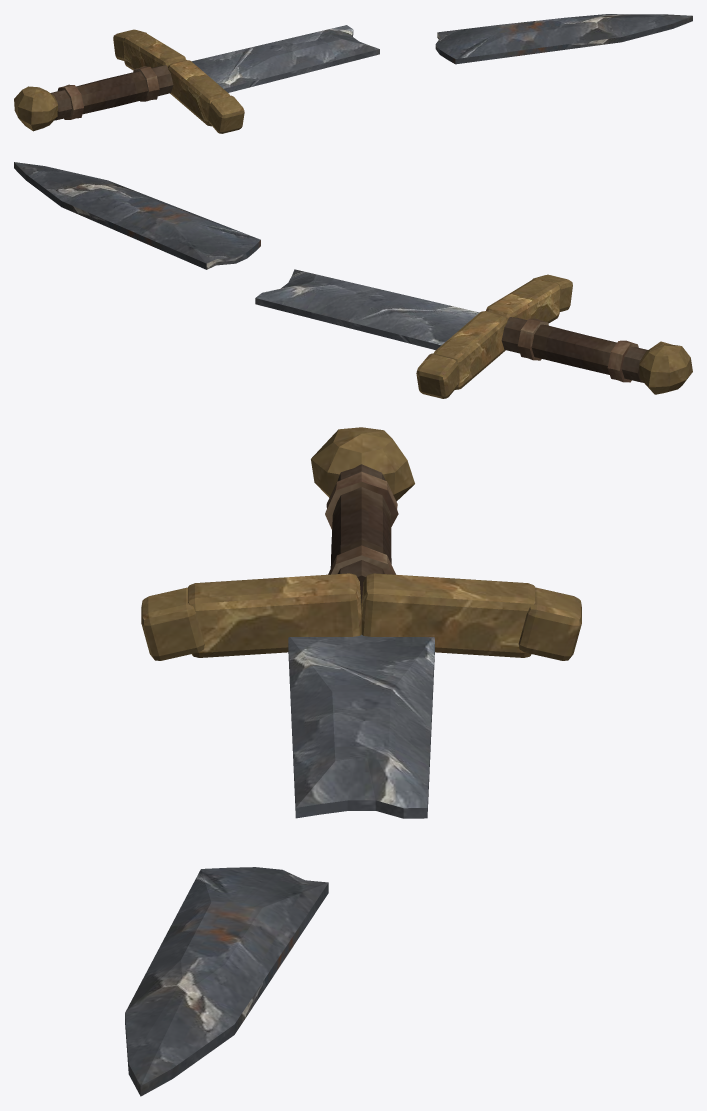
The model's file is junk_sword_snapped.glb.
3 renders of one model, top to bottom at view 1: azimuth 30°, elevation 25°; view 2: azimuth 150°, elevation 25°; view 3: azimuth 270°, elevation 25°, orthographic. The views are drawn at different scales.
Parts seen in each view (by area): view 1: model; view 2: model; view 3: model.
Boxes of the visible parts, left/top/right/bottom form: model: left=14, top=14, right=692, bottom=133; model: left=14, top=162, right=692, bottom=398; model: left=125, top=427, right=581, bottom=1096.
Size of the model in its own units: 0.739 by 0.0454 by 0.2359.
Materials: 5 (5 with a texture image).
